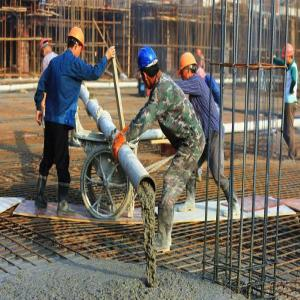blue: (134, 46, 162, 89)
red: (281, 42, 297, 68), (39, 38, 54, 61)
yellow: (176, 52, 198, 82), (67, 26, 85, 62)
